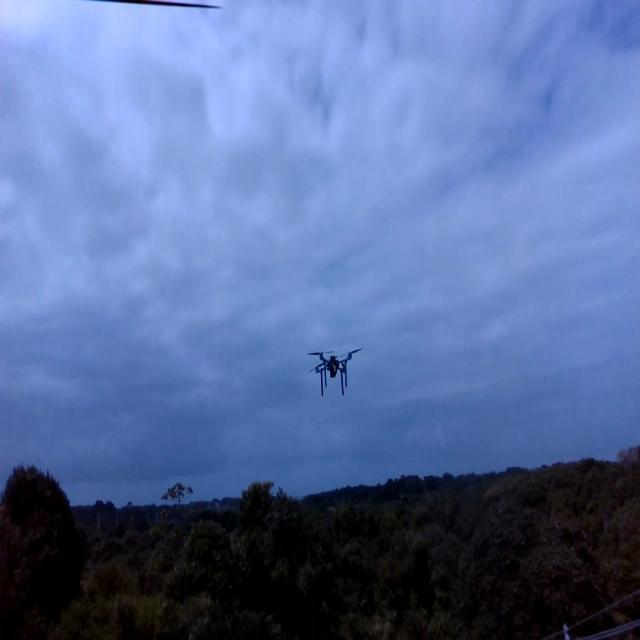-uav-: (302, 329, 365, 400)
